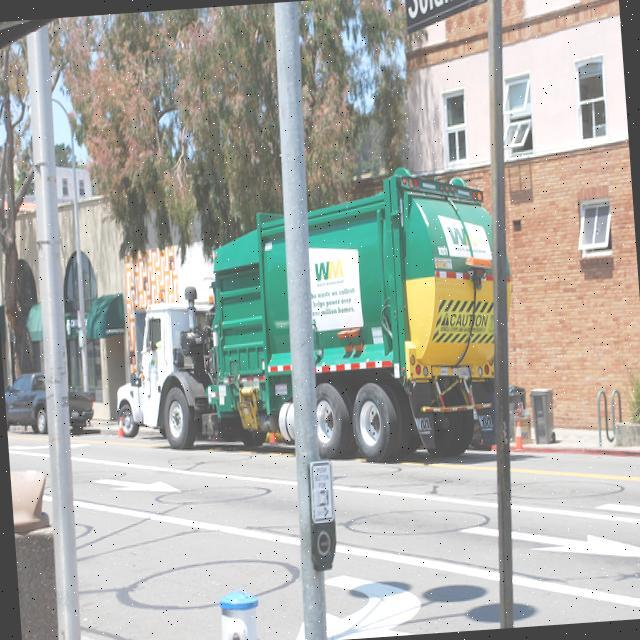fire_hydrant: (218, 593, 263, 640)
